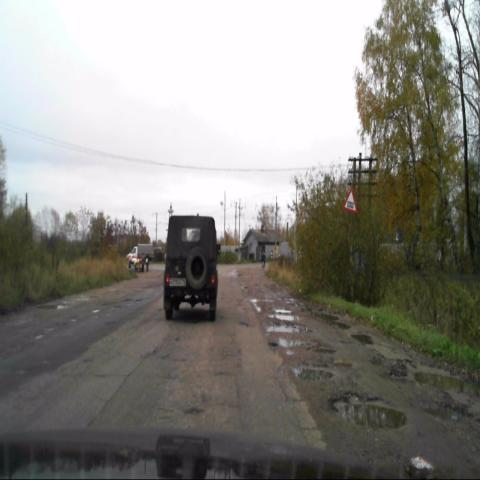1_1: (343, 188, 356, 213)
